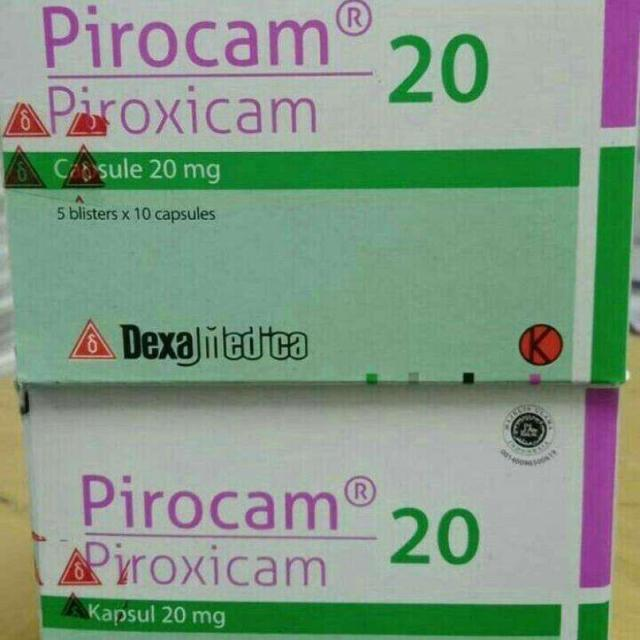drug-name: (42, 4, 328, 70)
